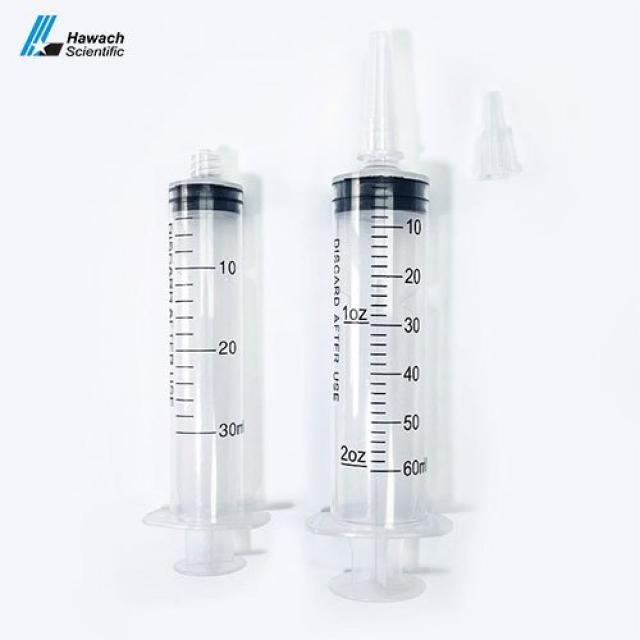syringe: (305, 26, 453, 602), (141, 145, 269, 576)
